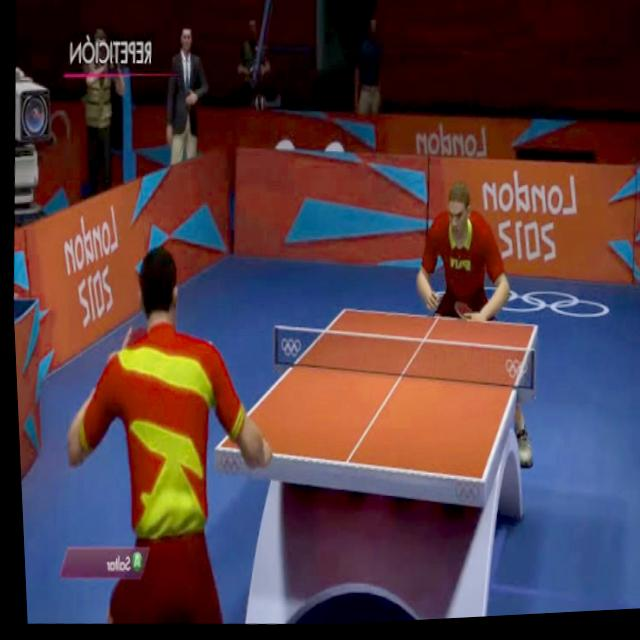TT Net: (273, 324, 536, 399)
TT Table: (218, 303, 537, 484)
